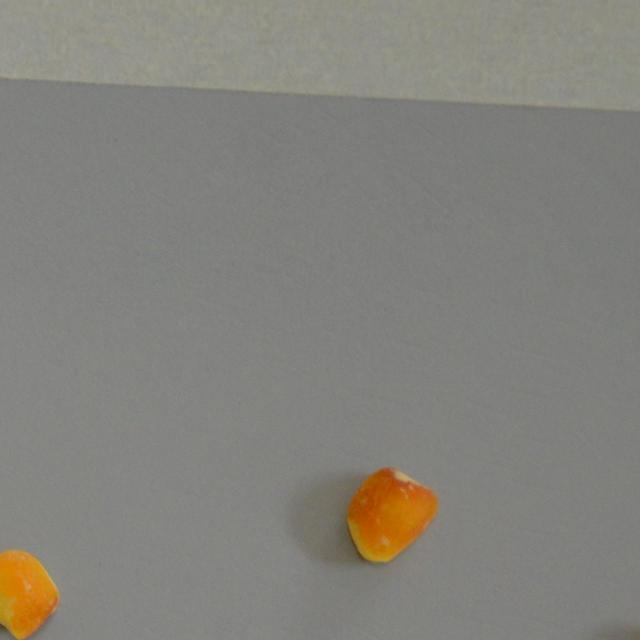dañado: (332, 458, 445, 566), (0, 544, 75, 640)
